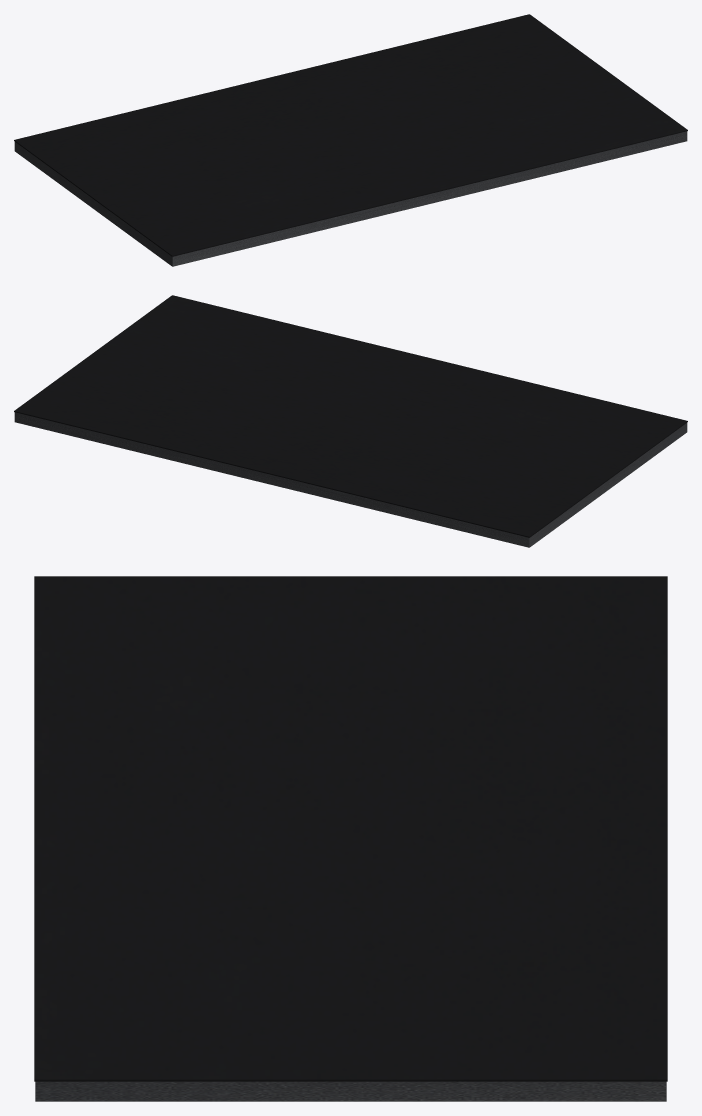
Rendered from 05_wall_TV_frameless_destructible_smallfragments.glb.
The picture shows the model from 3 angles, top to bottom: view 1: azimuth 30°, elevation 25°; view 2: azimuth 150°, elevation 25°; view 3: azimuth 270°, elevation 25°; orthographic projection. The views are drawn at different scales.
Visible parts, largest first — view 1: Edge_To_Edge_Screen_fragment_2, Edge_To_Edge_Screen_fragment_1, Rear_Housing_fragment_1, Rear_Housing_fragment_2; view 2: Edge_To_Edge_Screen_fragment_2, Edge_To_Edge_Screen_fragment_1, Rear_Housing_fragment_1, Rear_Housing_fragment_2; view 3: Edge_To_Edge_Screen_fragment_2, Edge_To_Edge_Screen_fragment_1, Rear_Housing_fragment_2.
Boxes of the visible parts, x1,y1,x2,y2 form: Edge_To_Edge_Screen_fragment_2: (246, 14, 687, 205); Edge_To_Edge_Screen_fragment_1: (14, 83, 379, 256); Rear_Housing_fragment_1: (14, 142, 379, 266); Rear_Housing_fragment_2: (379, 131, 687, 215); Edge_To_Edge_Screen_fragment_2: (14, 295, 479, 480); Edge_To_Edge_Screen_fragment_1: (297, 370, 687, 537); Rear_Housing_fragment_1: (297, 423, 687, 547); Rear_Housing_fragment_2: (14, 412, 297, 491); Edge_To_Edge_Screen_fragment_2: (34, 779, 667, 1081); Edge_To_Edge_Screen_fragment_1: (34, 576, 667, 802); Rear_Housing_fragment_2: (35, 1081, 666, 1101).
Bounding box in the file's own units: 1.05 × 0.0369 × 0.5576.
3 materials, 3 textured.
